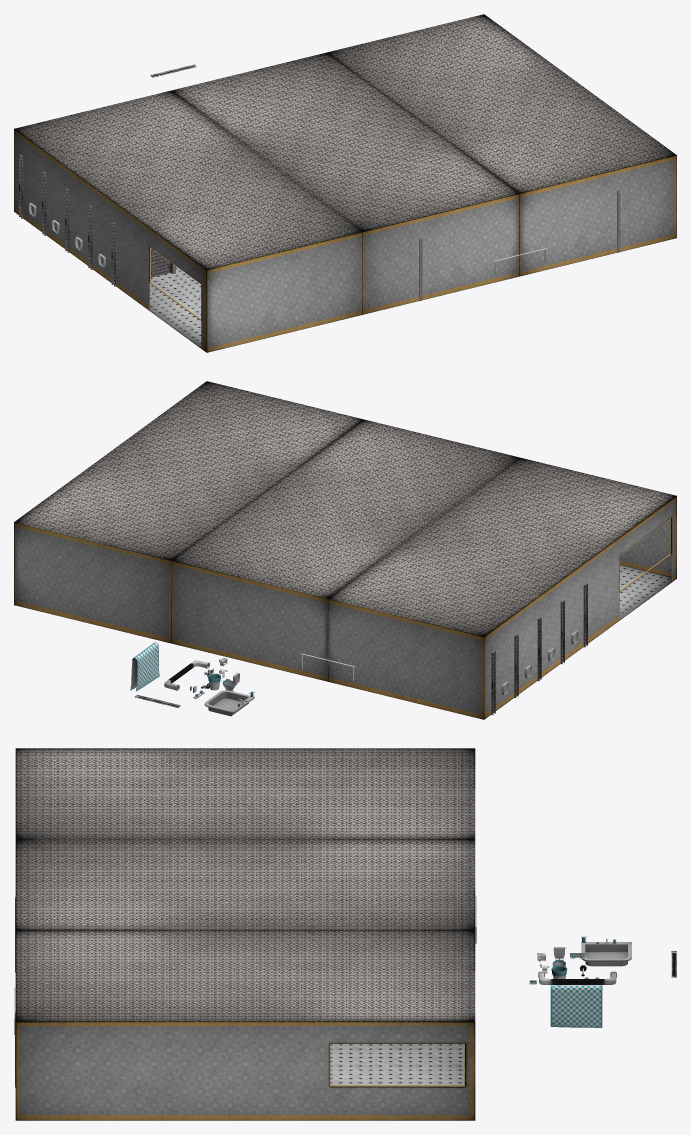
Rendered from low_poly_fresh_room__washrooms.glb.
3 views of the same model, one above another, from view 1: azimuth 30°, elevation 25°; view 2: azimuth 150°, elevation 25°; view 3: azimuth 270°, elevation 25° (orthographic). The views are drawn at different scales.
Parts seen in each view (by area): view 1: Outer_wall3, Outer_wall2, Outer_wall, Wall_02; view 2: Outer_wall3, Outer_wall2, Outer_wall, Towel, Main; view 3: Outer_wall2, Outer_wall3, Outer_wall, Towel, Main, Towel_hanger.
Boxes of the visible parts, box(x1,y1,x2,y2) form: Outer_wall3: box(14, 90, 364, 352); Outer_wall2: box(327, 14, 676, 276); Outer_wall: box(172, 52, 519, 314); Wall_02: box(111, 222, 175, 286); Outer_wall3: box(326, 458, 676, 719); Outer_wall2: box(14, 381, 363, 643); Outer_wall: box(171, 419, 520, 681); Towel: box(130, 642, 159, 691); Main: box(204, 690, 254, 716); Outer_wall2: box(15, 930, 475, 1120); Outer_wall3: box(15, 748, 475, 839); Outer_wall: box(15, 839, 475, 930); Towel: box(550, 985, 602, 1027); Main: box(581, 942, 631, 966); Towel_hanger: box(538, 971, 616, 984).
Bounding box in the file's own units: 1.18 × 0.2106 × 1.2.
Materials: 3 (3 with a texture image).
